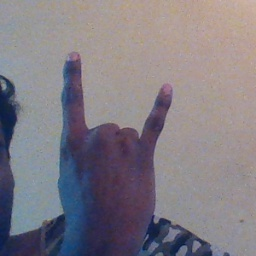V: (55, 47, 178, 232)
